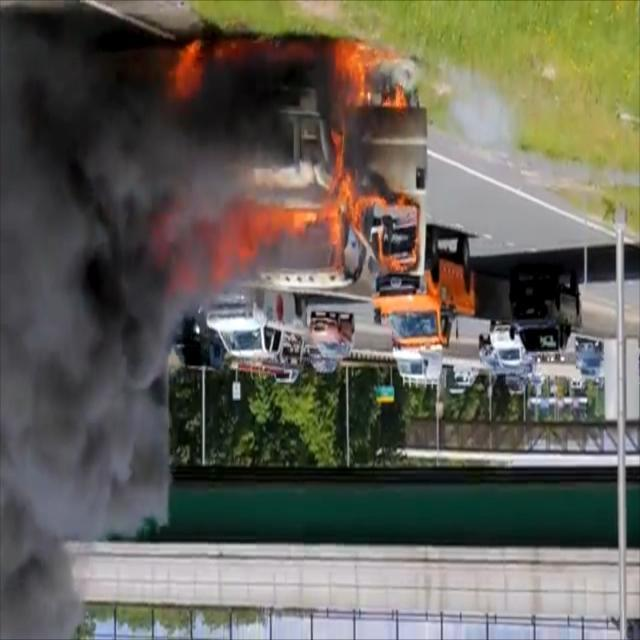fire: (142, 42, 424, 294)
